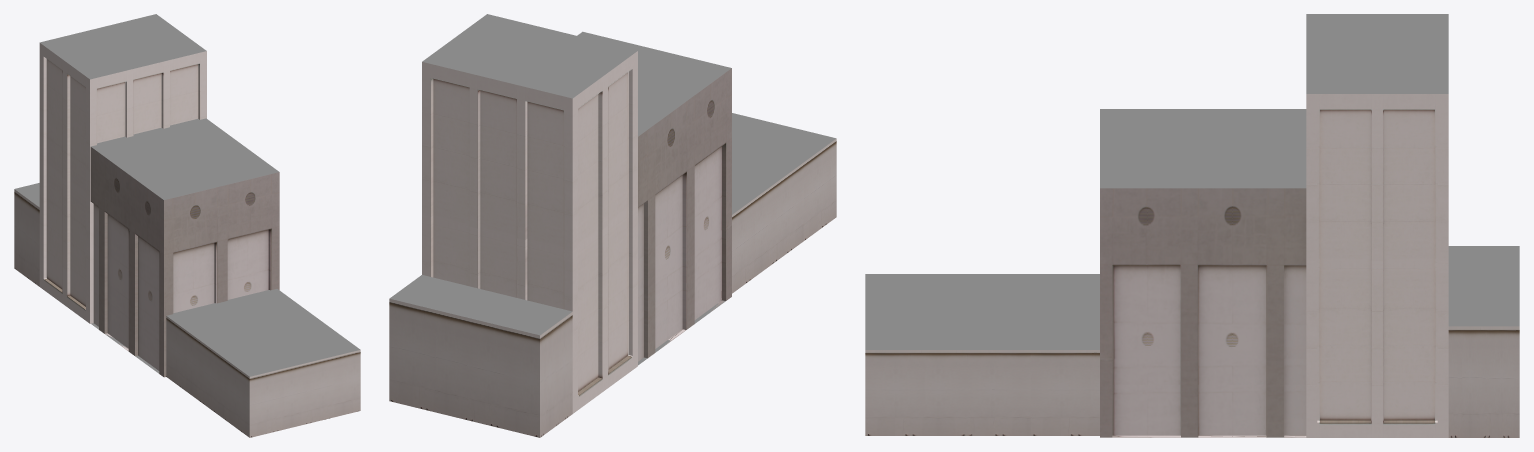
Rendered from Lyceum Theatre.FBX.
3 views of the same model, side by side, from view 1: azimuth 30°, elevation 25°; view 2: azimuth 150°, elevation 25°; view 3: azimuth 270°, elevation 25° (orthographic). The views are drawn at different scales.
Parts seen in each view (by area): view 1: Box003, Box001, Box004, Box002; view 2: Box001, Box003, Box002, Box004; view 3: Box003, Box001, Box004, Box002.
Part boxes in pixels (bbox=[...]): Box003: bbox=[90, 118, 279, 377]; Box001: bbox=[39, 14, 206, 323]; Box004: bbox=[166, 289, 360, 437]; Box002: bbox=[14, 183, 39, 286]; Box001: bbox=[422, 14, 637, 413]; Box003: bbox=[577, 31, 731, 365]; Box002: bbox=[389, 275, 572, 437]; Box004: bbox=[732, 113, 836, 293]; Box003: bbox=[1100, 109, 1306, 437]; Box001: bbox=[1306, 14, 1448, 437]; Box004: bbox=[865, 274, 1099, 435]; Box002: bbox=[1448, 246, 1519, 437].
Size of the model in its own units: 20 by 40 by 69.
